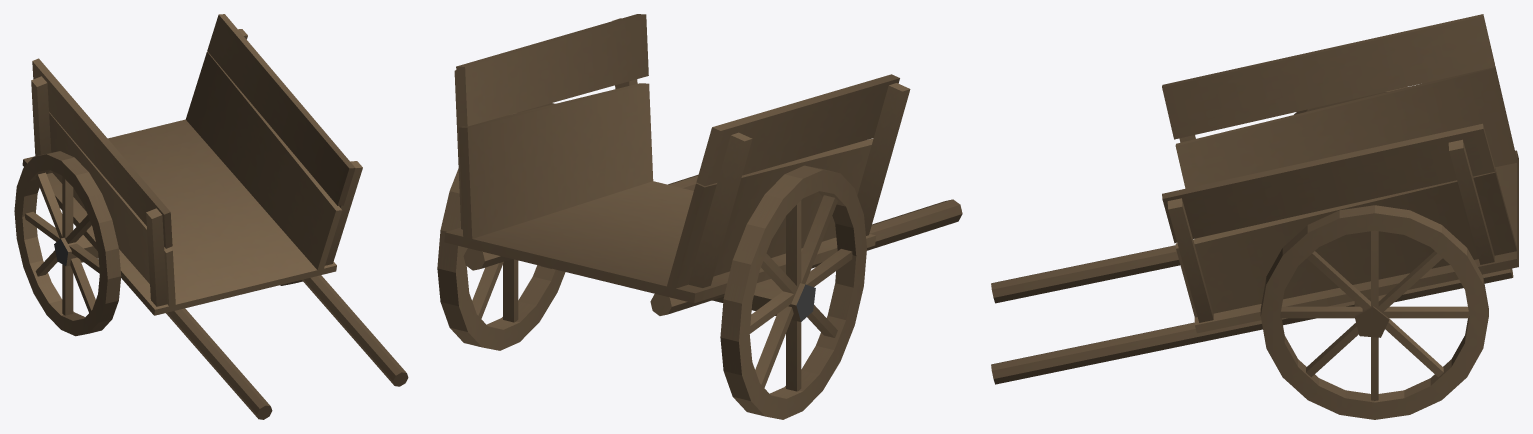
The model's file is ZLP_Build_D_20.FBX.
3 renders of one model, left to right at view 1: azimuth 30°, elevation 25°; view 2: azimuth 150°, elevation 25°; view 3: azimuth 270°, elevation 25°, orthographic. The views are drawn at different scales.
Parts seen in each view (by area): view 1: ZLP_Build_D_20; view 2: ZLP_Build_D_20; view 3: ZLP_Build_D_20.
Part boxes in pixels (x1,y1,x2,y2): ZLP_Build_D_20: (14, 14, 408, 419); ZLP_Build_D_20: (437, 14, 962, 419); ZLP_Build_D_20: (991, 14, 1518, 419).
Bounding box in the file's own units: 74.6 × 75.51 × 126.
